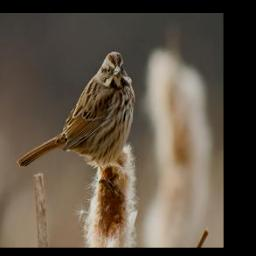Sparrow: (17, 50, 136, 200)
